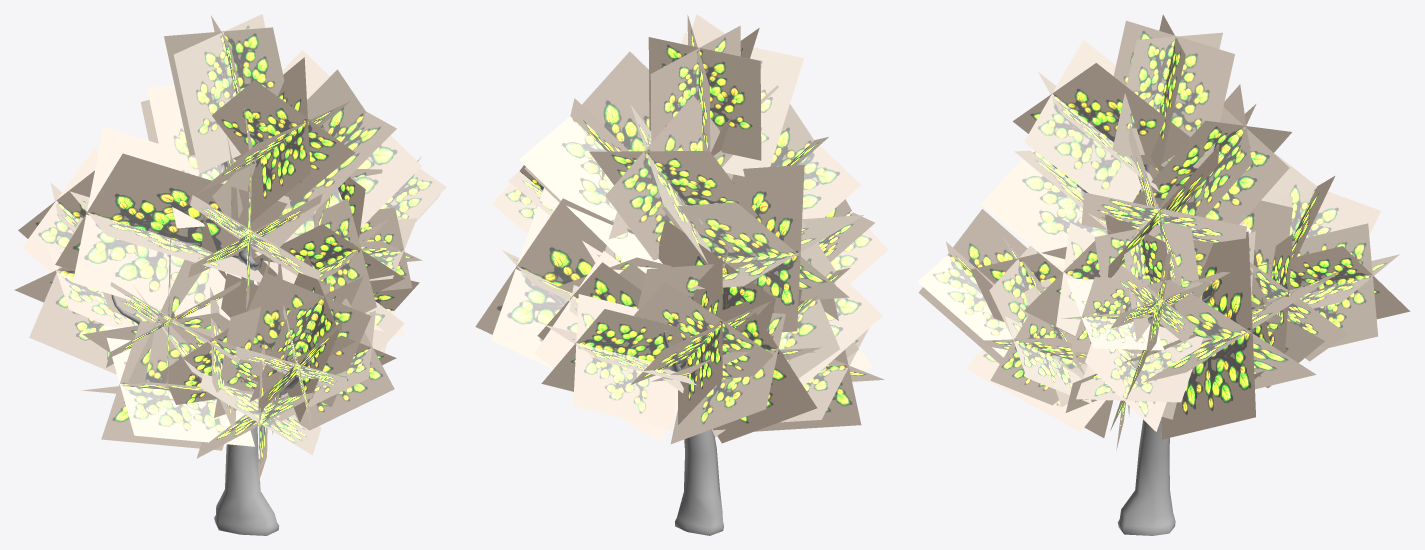
The model's file is MainTreeL - Copy.FBX.
The picture shows the model from 3 angles, left to right: view 1: azimuth 30°, elevation 25°; view 2: azimuth 150°, elevation 25°; view 3: azimuth 270°, elevation 25°; orthographic projection.
Visible parts, largest first — view 1: TreeA_LOD0; view 2: TreeA_LOD0; view 3: TreeA_LOD0.
Part boxes in pixels (box(x1,y1,x2,y2)): TreeA_LOD0: box(14, 14, 446, 535); TreeA_LOD0: box(475, 14, 888, 535); TreeA_LOD0: box(918, 14, 1410, 535).
Size of what is drawn, in the model's own units: 408 by 534 by 482.
